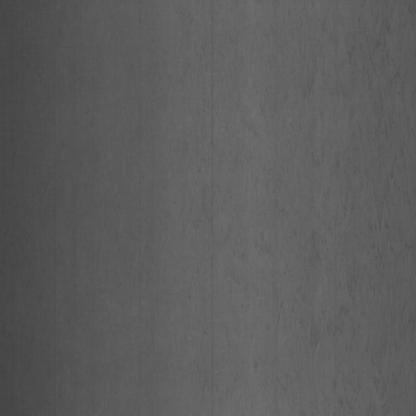silk_spot: (224, 13, 404, 392)
